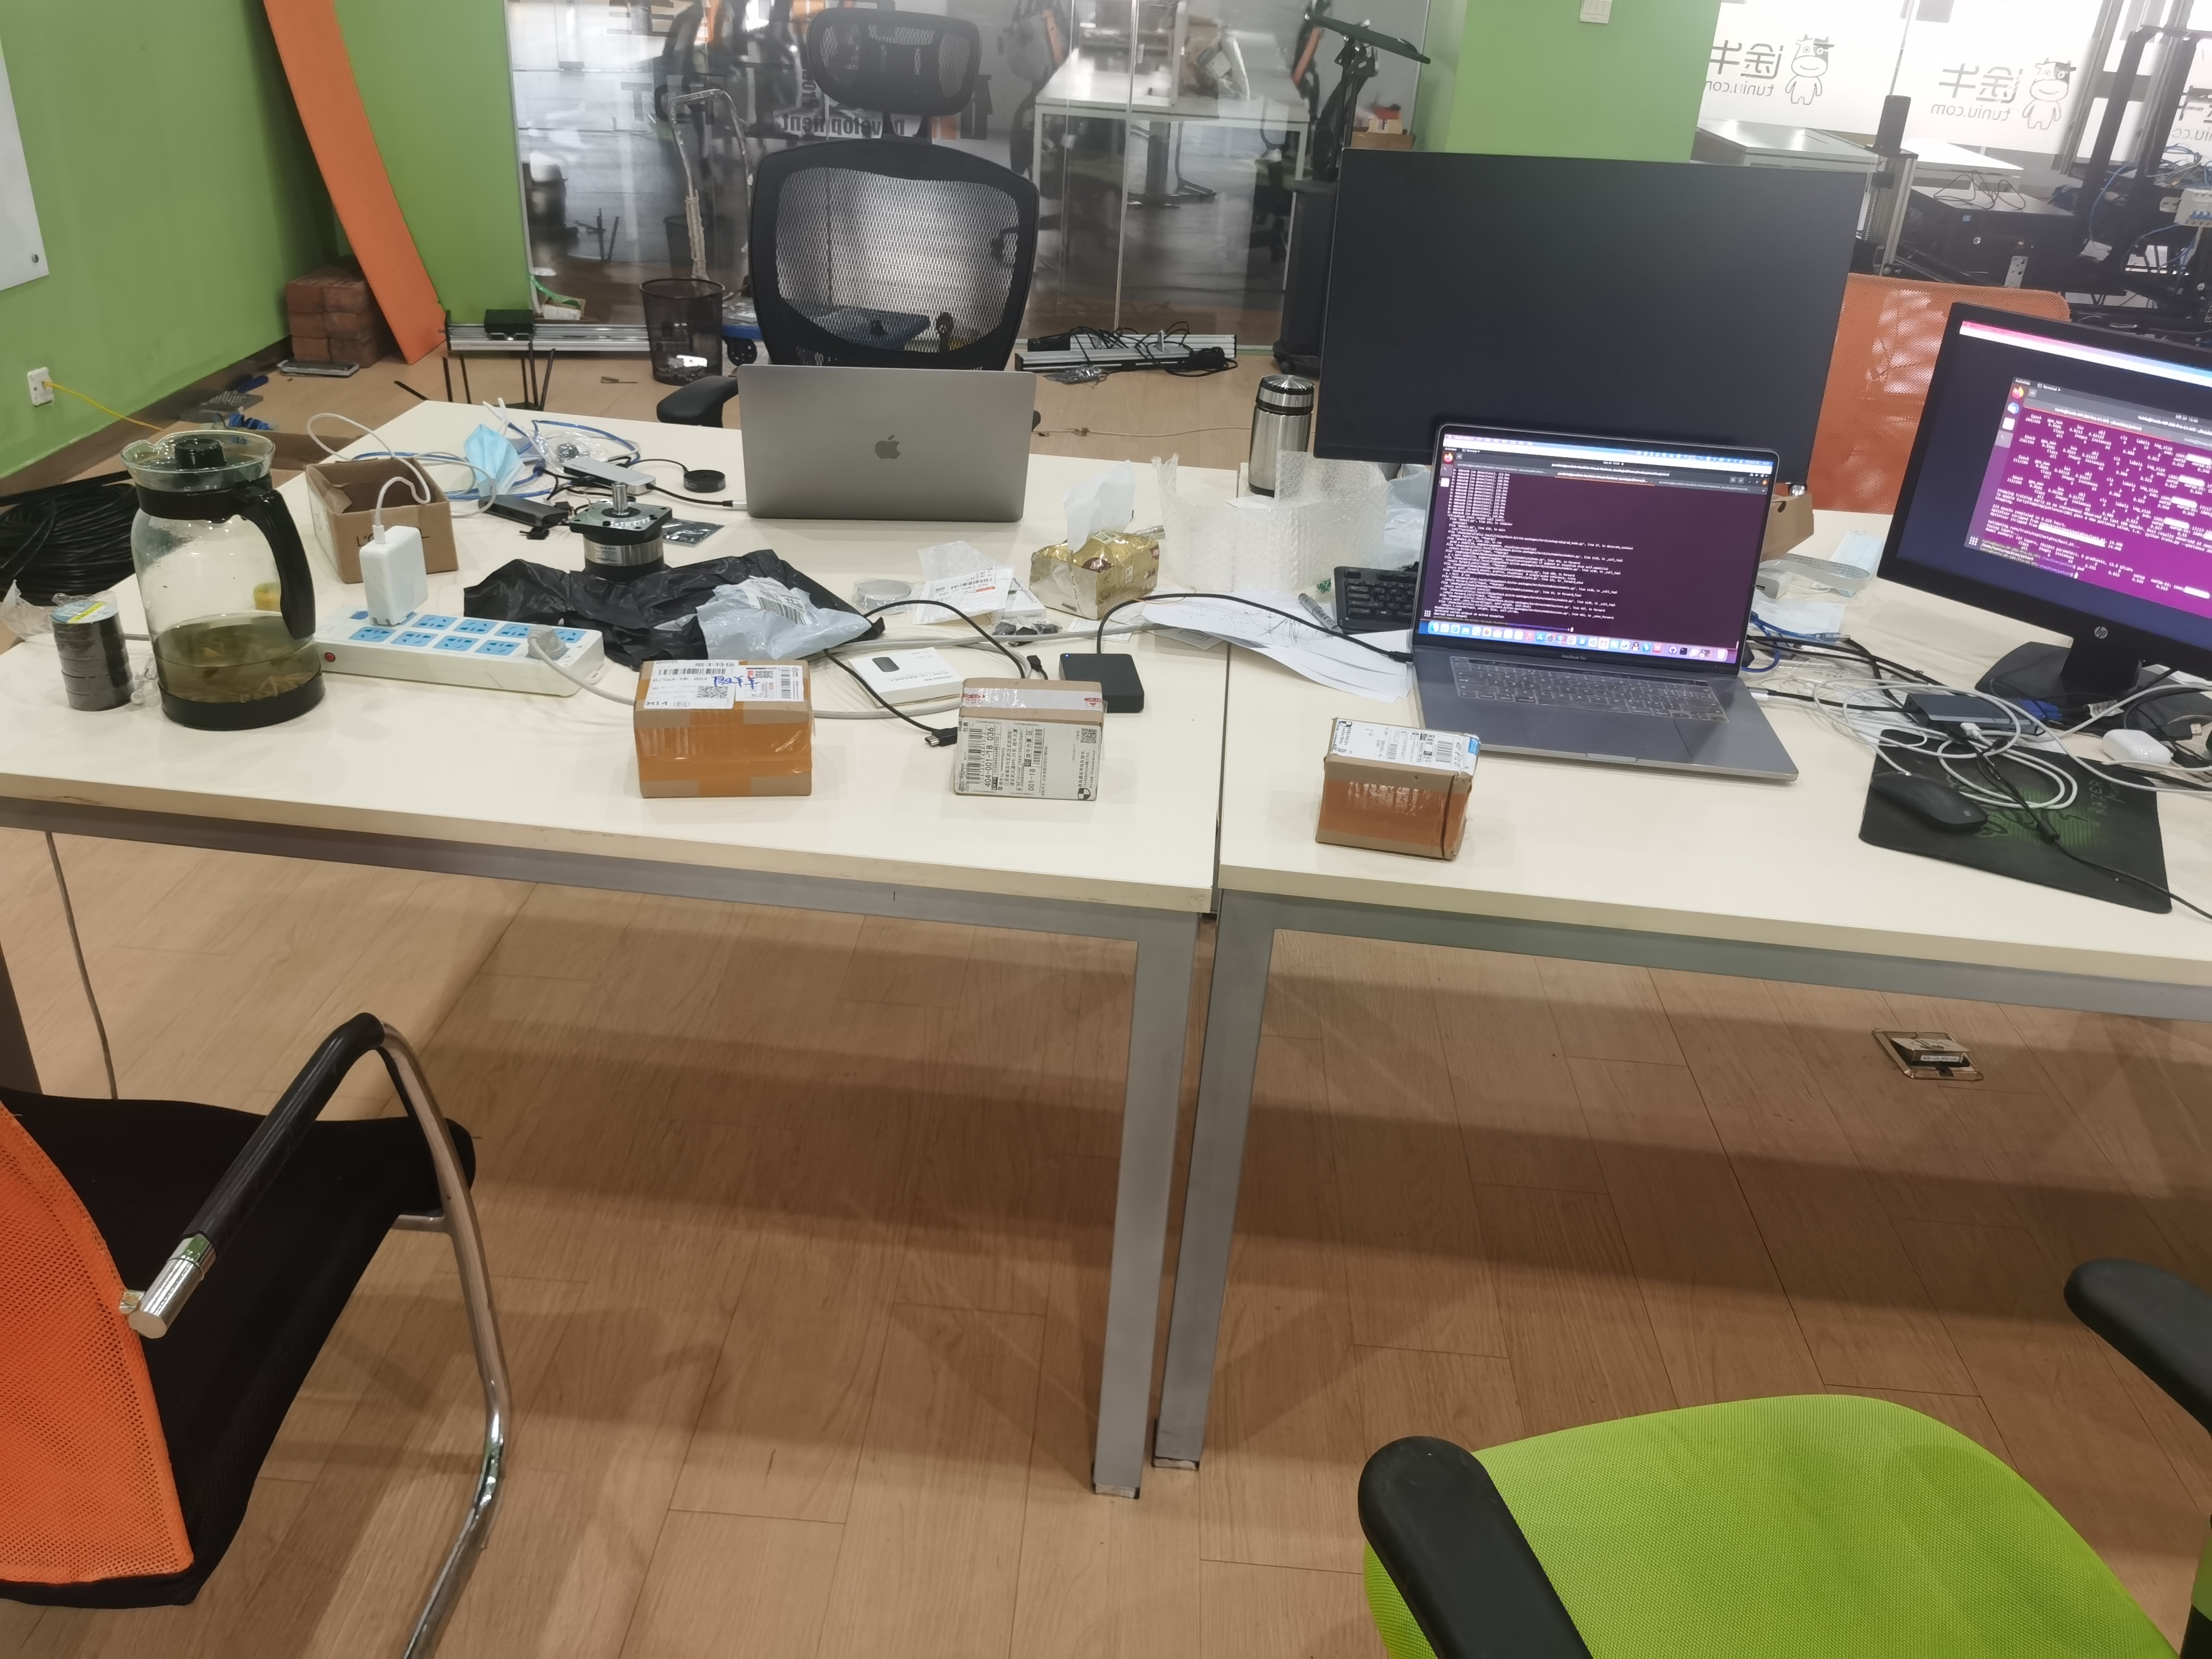box: (624, 653, 827, 796), (1312, 720, 1487, 870), (944, 673, 1111, 805)
